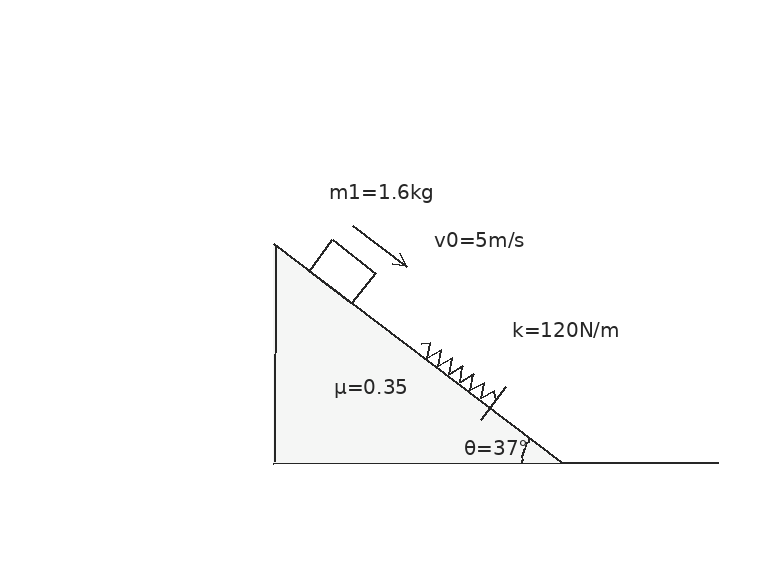block: (306, 238, 377, 305)
ramp: (272, 243, 564, 464)
spring: (418, 340, 497, 403)
